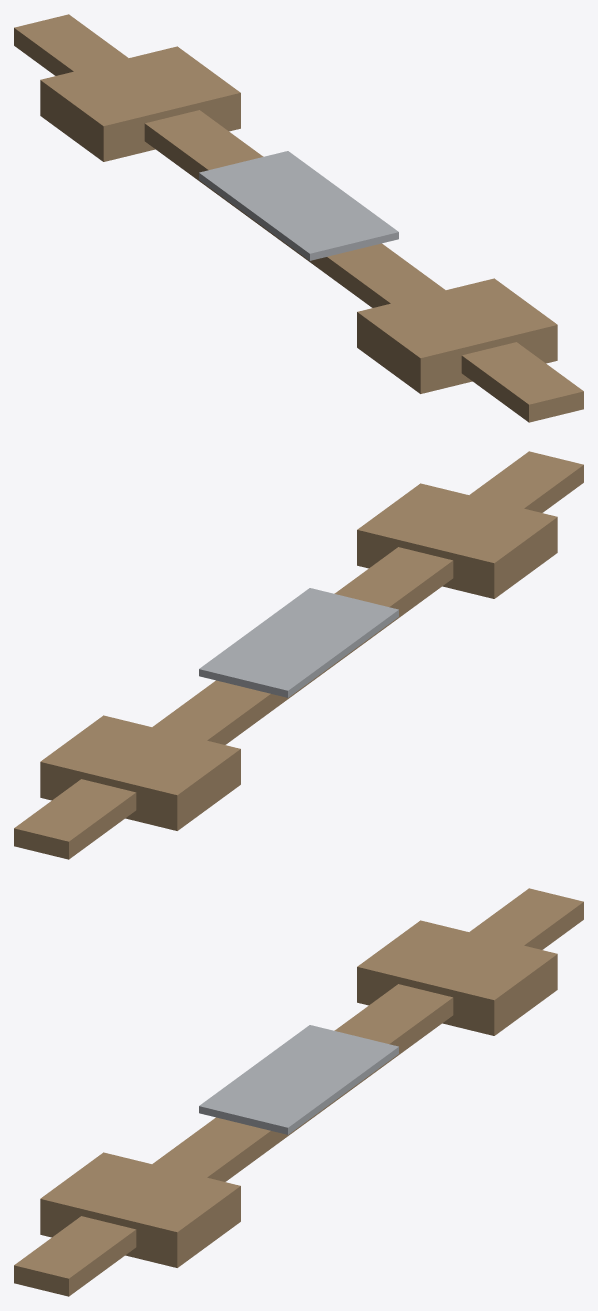
Rendered from Sleeper_2.fbx.
3 views of the same model, one above another, from view 1: azimuth 30°, elevation 25°; view 2: azimuth 150°, elevation 25°; view 3: azimuth 330°, elevation 25° (orthographic).
Parts seen in each view (by area): view 1: Sleeper_2; view 2: Sleeper_2; view 3: Sleeper_2.
Boxes of the visible parts, box(x1,y1,x2,y2) form: Sleeper_2: box(14, 14, 583, 422); Sleeper_2: box(14, 451, 583, 859); Sleeper_2: box(14, 888, 583, 1296).
Bounding box in the file's own units: 0.4 × 0.1 × 2.6.
